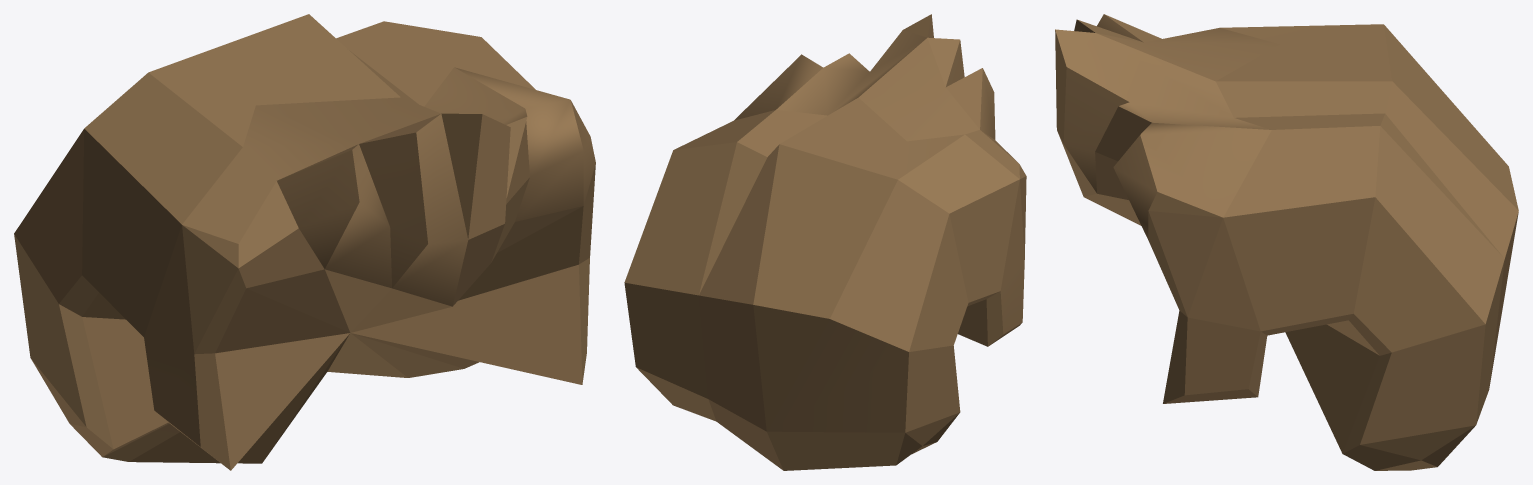
Rendered from shops-short-01.glb.
The picture shows the model from 3 angles, left to right: view 1: azimuth 30°, elevation 25°; view 2: azimuth 150°, elevation 25°; view 3: azimuth 270°, elevation 25°; orthographic projection. The views are drawn at different scales.
Parts seen in each view (by area): view 1: shops-short-01; view 2: shops-short-01; view 3: shops-short-01.
Boxes of the visible parts, bbox=[...] form: shops-short-01: bbox=[14, 14, 595, 470]; shops-short-01: bbox=[624, 14, 1026, 470]; shops-short-01: bbox=[1055, 14, 1518, 470].
Size of the model in its own units: 0.2475 by 0.2746 by 0.2697.
